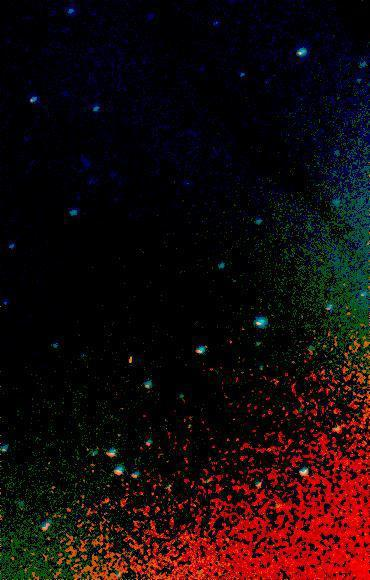star: (322, 80, 352, 110)
